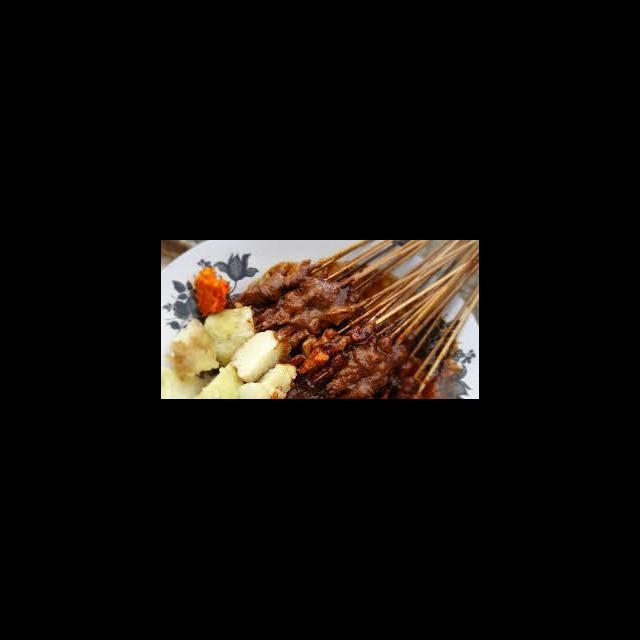food_waste: (228, 276, 357, 382)
